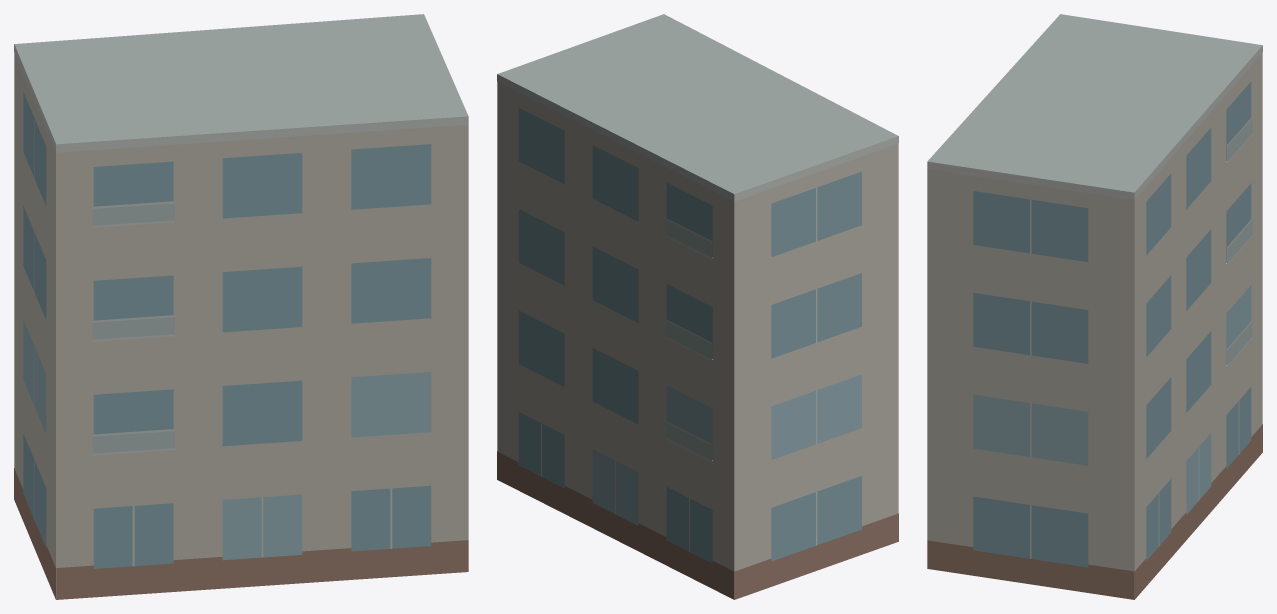
The model's file is survey-upis-32993473.glb.
3 views of the same model, side by side, from view 1: azimuth 30°, elevation 25°; view 2: azimuth 150°, elevation 25°; view 3: azimuth 270°, elevation 25° (orthographic). The views are drawn at different scales.
Parts seen in each view (by area): view 1: survey-upis-32993473.tmp; view 2: survey-upis-32993473.tmp; view 3: survey-upis-32993473.tmp.
Part boxes in pixels (<box>): survey-upis-32993473.tmp: <box>14,14,468,599</box>; survey-upis-32993473.tmp: <box>497,14,898,599</box>; survey-upis-32993473.tmp: <box>927,14,1262,599</box>.
Size of the model in its own units: 12.52 by 13.3 by 9.94.
